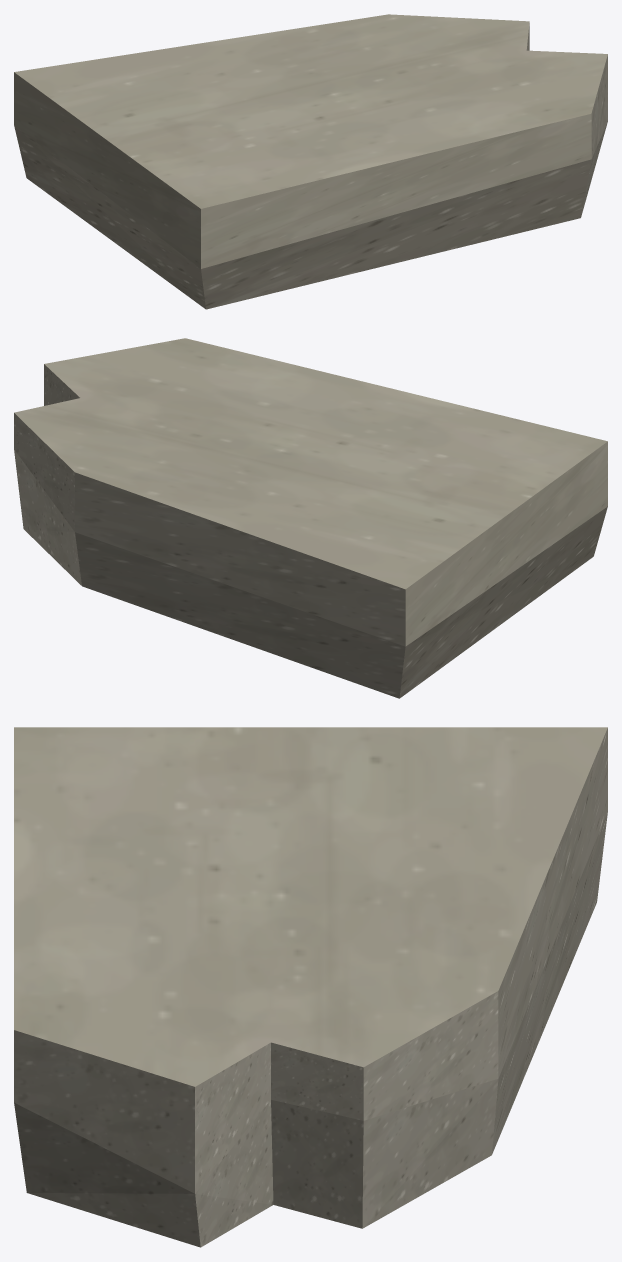
Rendered from debris_concrete_corner.glb.
3 renders of one model, top to bottom at view 1: azimuth 30°, elevation 25°; view 2: azimuth 150°, elevation 25°; view 3: azimuth 270°, elevation 25°, orthographic. The views are drawn at different scales.
Visible parts, largest first — view 1: Concrete Slab Corner; view 2: Concrete Slab Corner; view 3: Concrete Slab Corner.
Boxes of the visible parts, x1,y1,x2,y2 form: Concrete Slab Corner: [14, 14, 607, 309]; Concrete Slab Corner: [14, 338, 607, 698]; Concrete Slab Corner: [14, 727, 607, 1247].
Bounding box in the file's own units: 0.202 × 0.044 × 0.141.
Materials: 1 (1 with a texture image).
